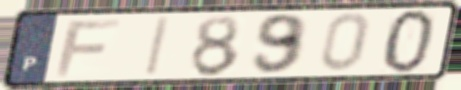0: (379, 8, 438, 76), (315, 11, 374, 75)
8: (186, 13, 247, 78)
9: (248, 11, 313, 76)
F: (52, 17, 124, 79)
I: (142, 15, 174, 78)
